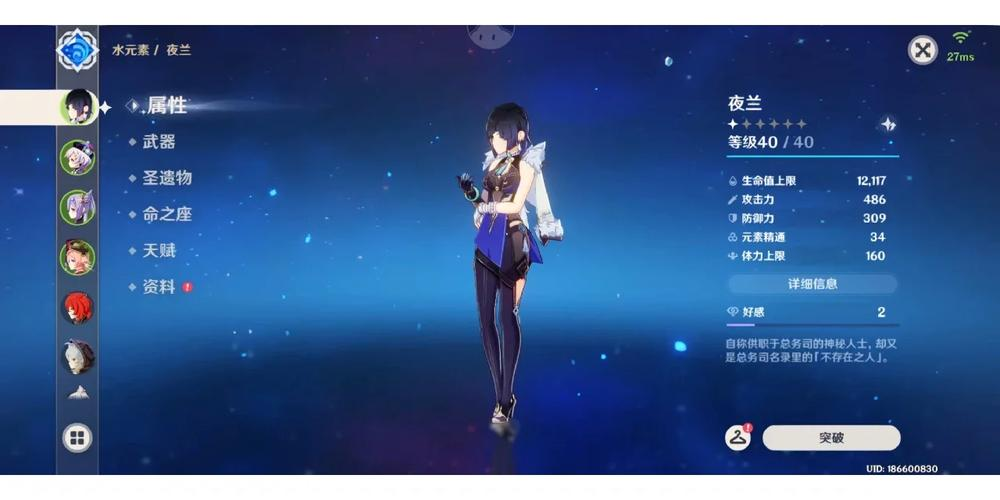夜兰: (451, 102, 559, 442), (63, 90, 98, 126)
